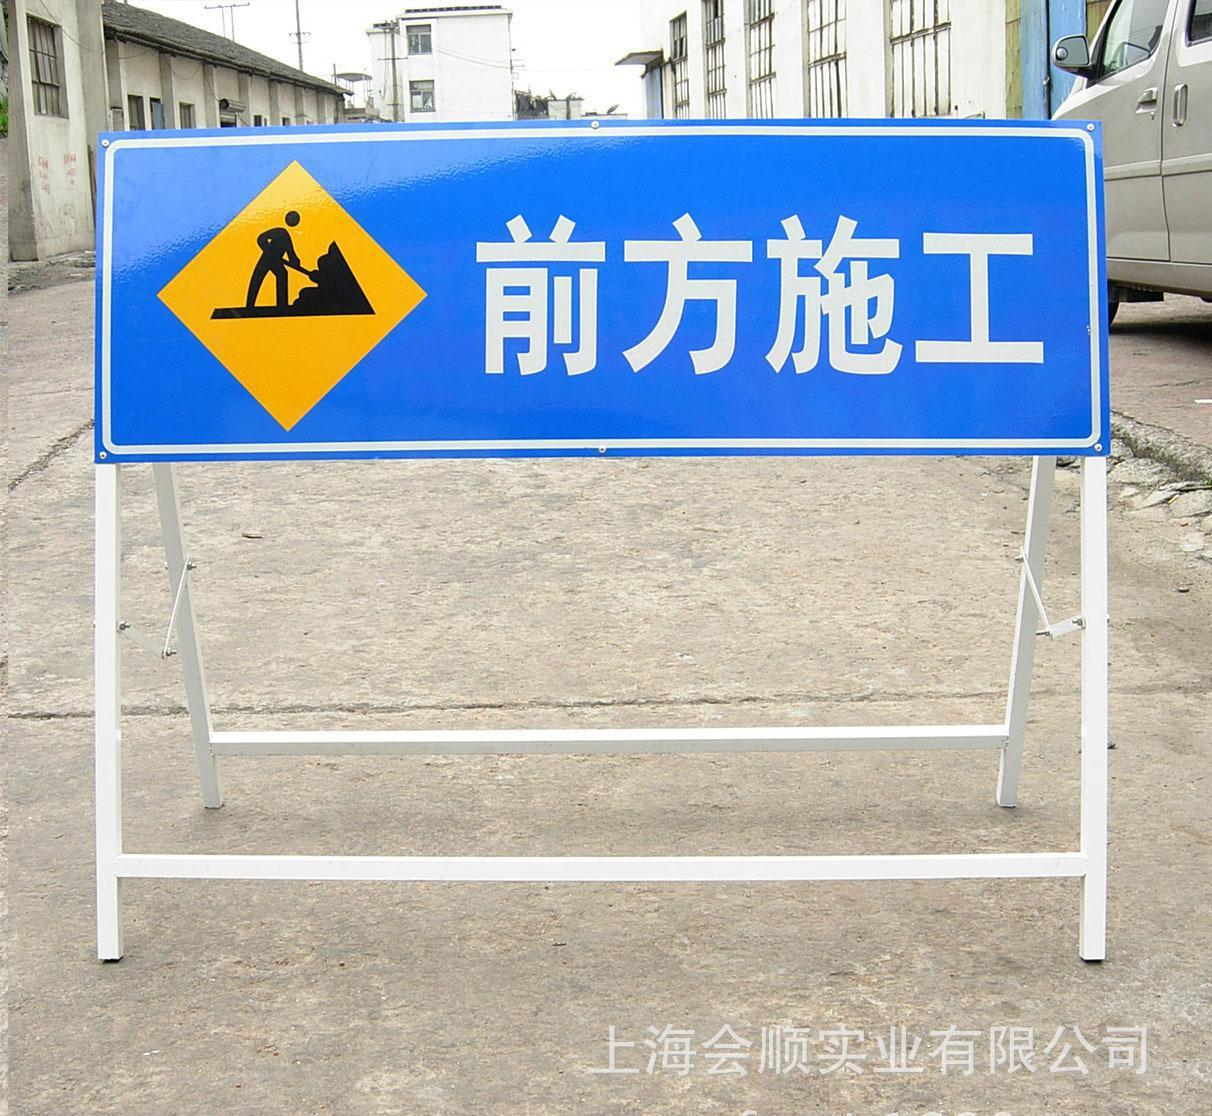sign: (102, 139, 1115, 480)
